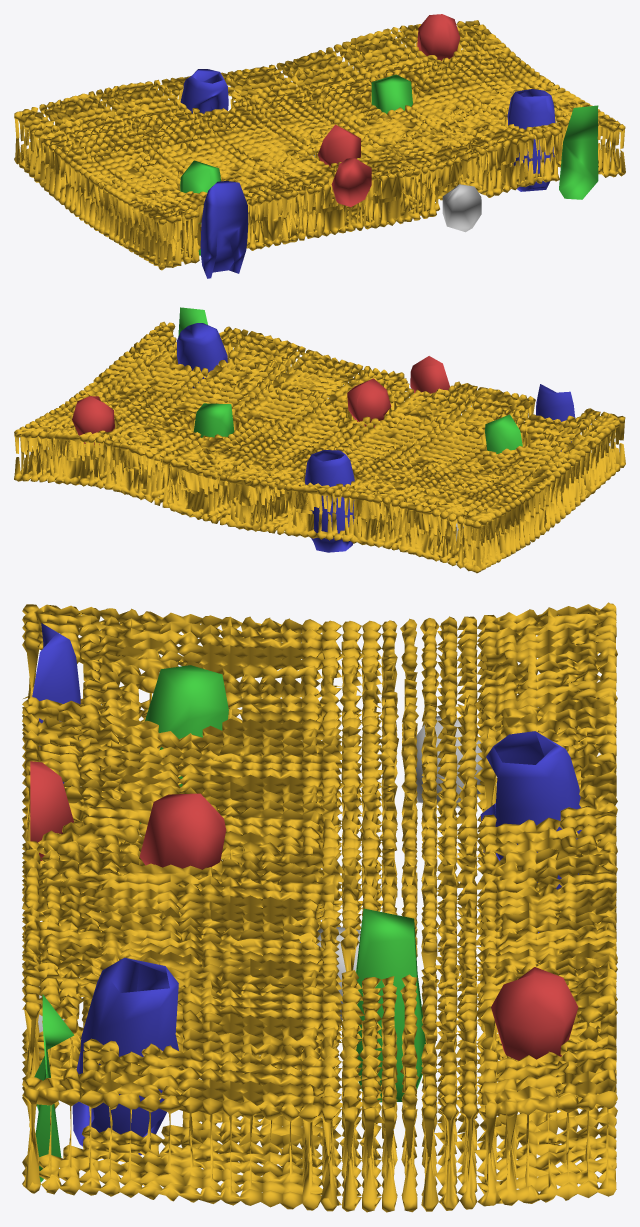
File: plasma-membrane.glb
3 renders of one model, top to bottom at view 1: azimuth 30°, elevation 25°; view 2: azimuth 150°, elevation 25°; view 3: azimuth 270°, elevation 25°, orthographic. The views are drawn at different scales.
Parts seen in each view (by area): view 1: Icosphere.001_0, Torus.000_0, Sphere.002_0, Sphere.004_0, Sphere.006_0; view 2: Icosphere.001_0, Torus.000_0, Sphere.004_0, Sphere.002_0; view 3: Icosphere.001_0, Torus.000_0, Sphere.004_0, Sphere.002_0, Sphere.006_0.
Part boxes in pixels (bbox=[...]): Icosphere.001_0: bbox=[14, 20, 625, 270]; Torus.000_0: bbox=[180, 69, 555, 278]; Sphere.002_0: bbox=[180, 74, 598, 255]; Sphere.004_0: bbox=[318, 14, 460, 206]; Sphere.006_0: bbox=[309, 155, 481, 232]; Icosphere.001_0: bbox=[14, 321, 625, 573]; Torus.000_0: bbox=[177, 323, 575, 552]; Sphere.004_0: bbox=[72, 356, 449, 445]; Sphere.002_0: bbox=[178, 307, 522, 453]; Icosphere.001_0: bbox=[22, 602, 617, 1212]; Torus.000_0: bbox=[32, 623, 581, 1155]; Sphere.004_0: bbox=[30, 761, 578, 1060]; Sphere.002_0: bbox=[34, 665, 425, 1182]; Sphere.006_0: bbox=[38, 716, 482, 1052].
Size of the model in its own units: 72.24 by 15.85 by 39.94.
